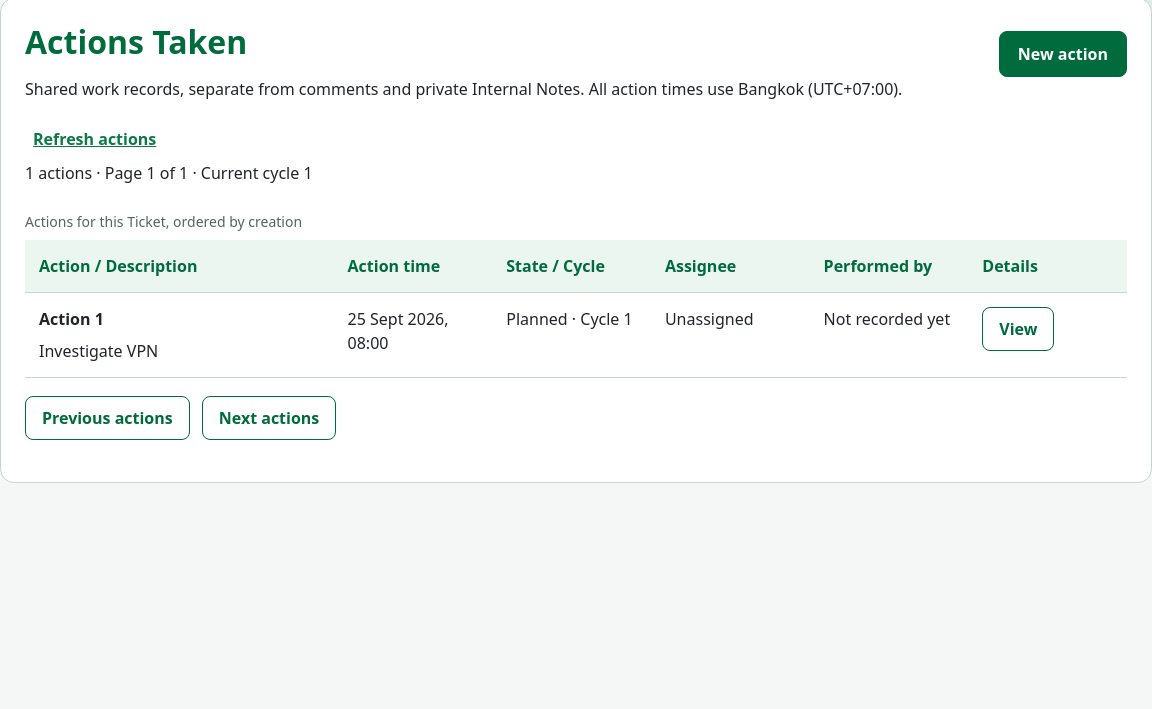
Actions Taken › starts work directly from view mode with only a state save
The image size is (1152, 709).
Click the button with aria-label "View action 1".
click(1018, 329)  # box [982,307,1054,351]
(page scrolled)
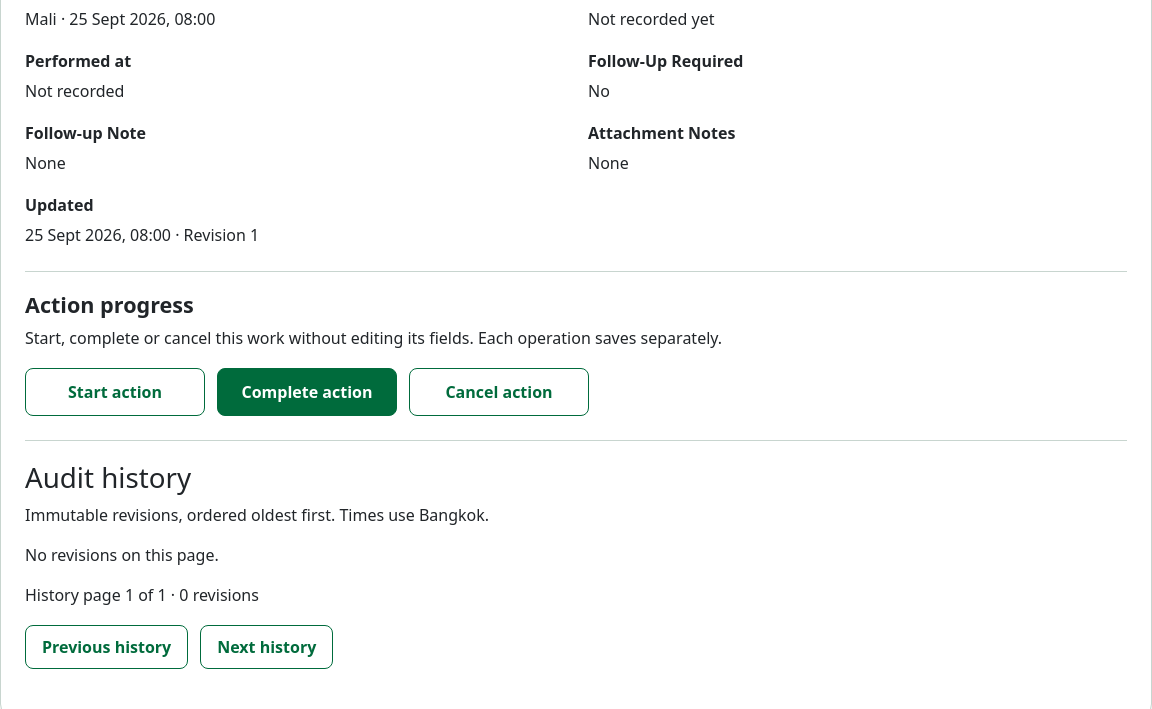
Click the button "Start action".
click(115, 392)  # box [25,368,205,416]
(page scrolled)
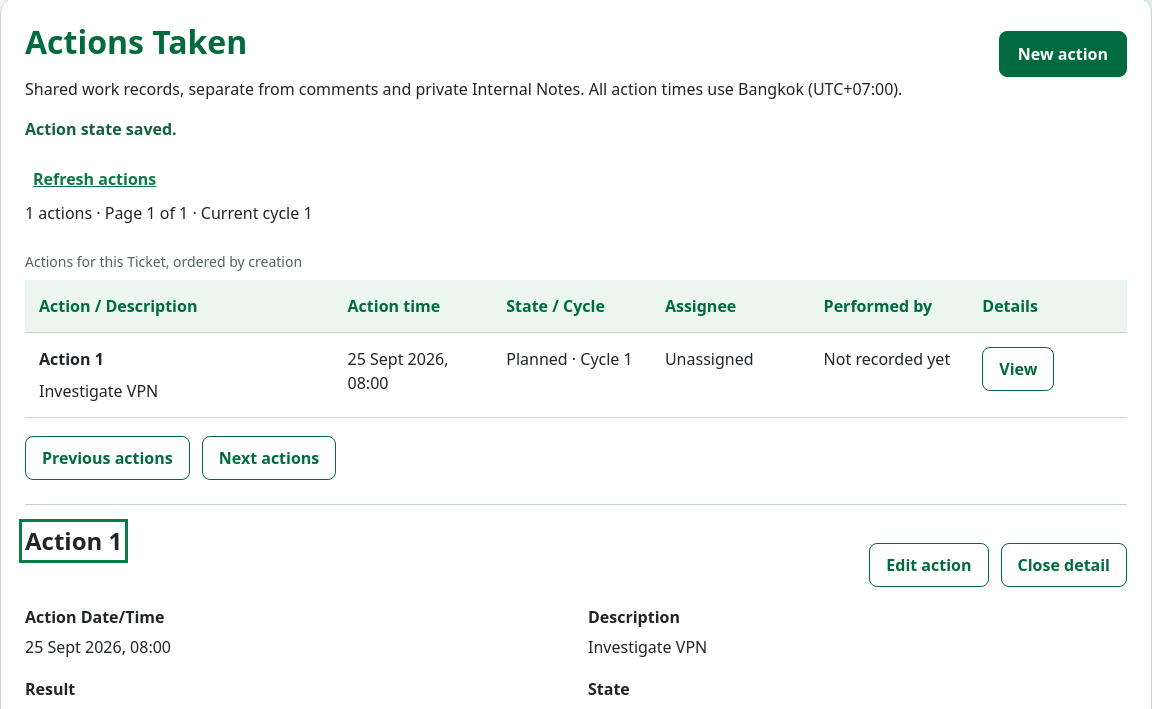
Expected: the text "Action state saved." is shown, [25,118,177,140]
Expected: the button "Start action" is gone
